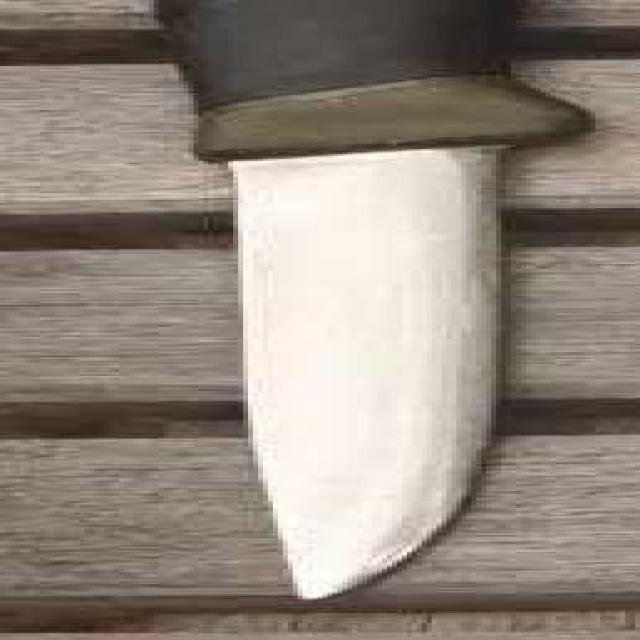Knife: (146, 0, 589, 607)
